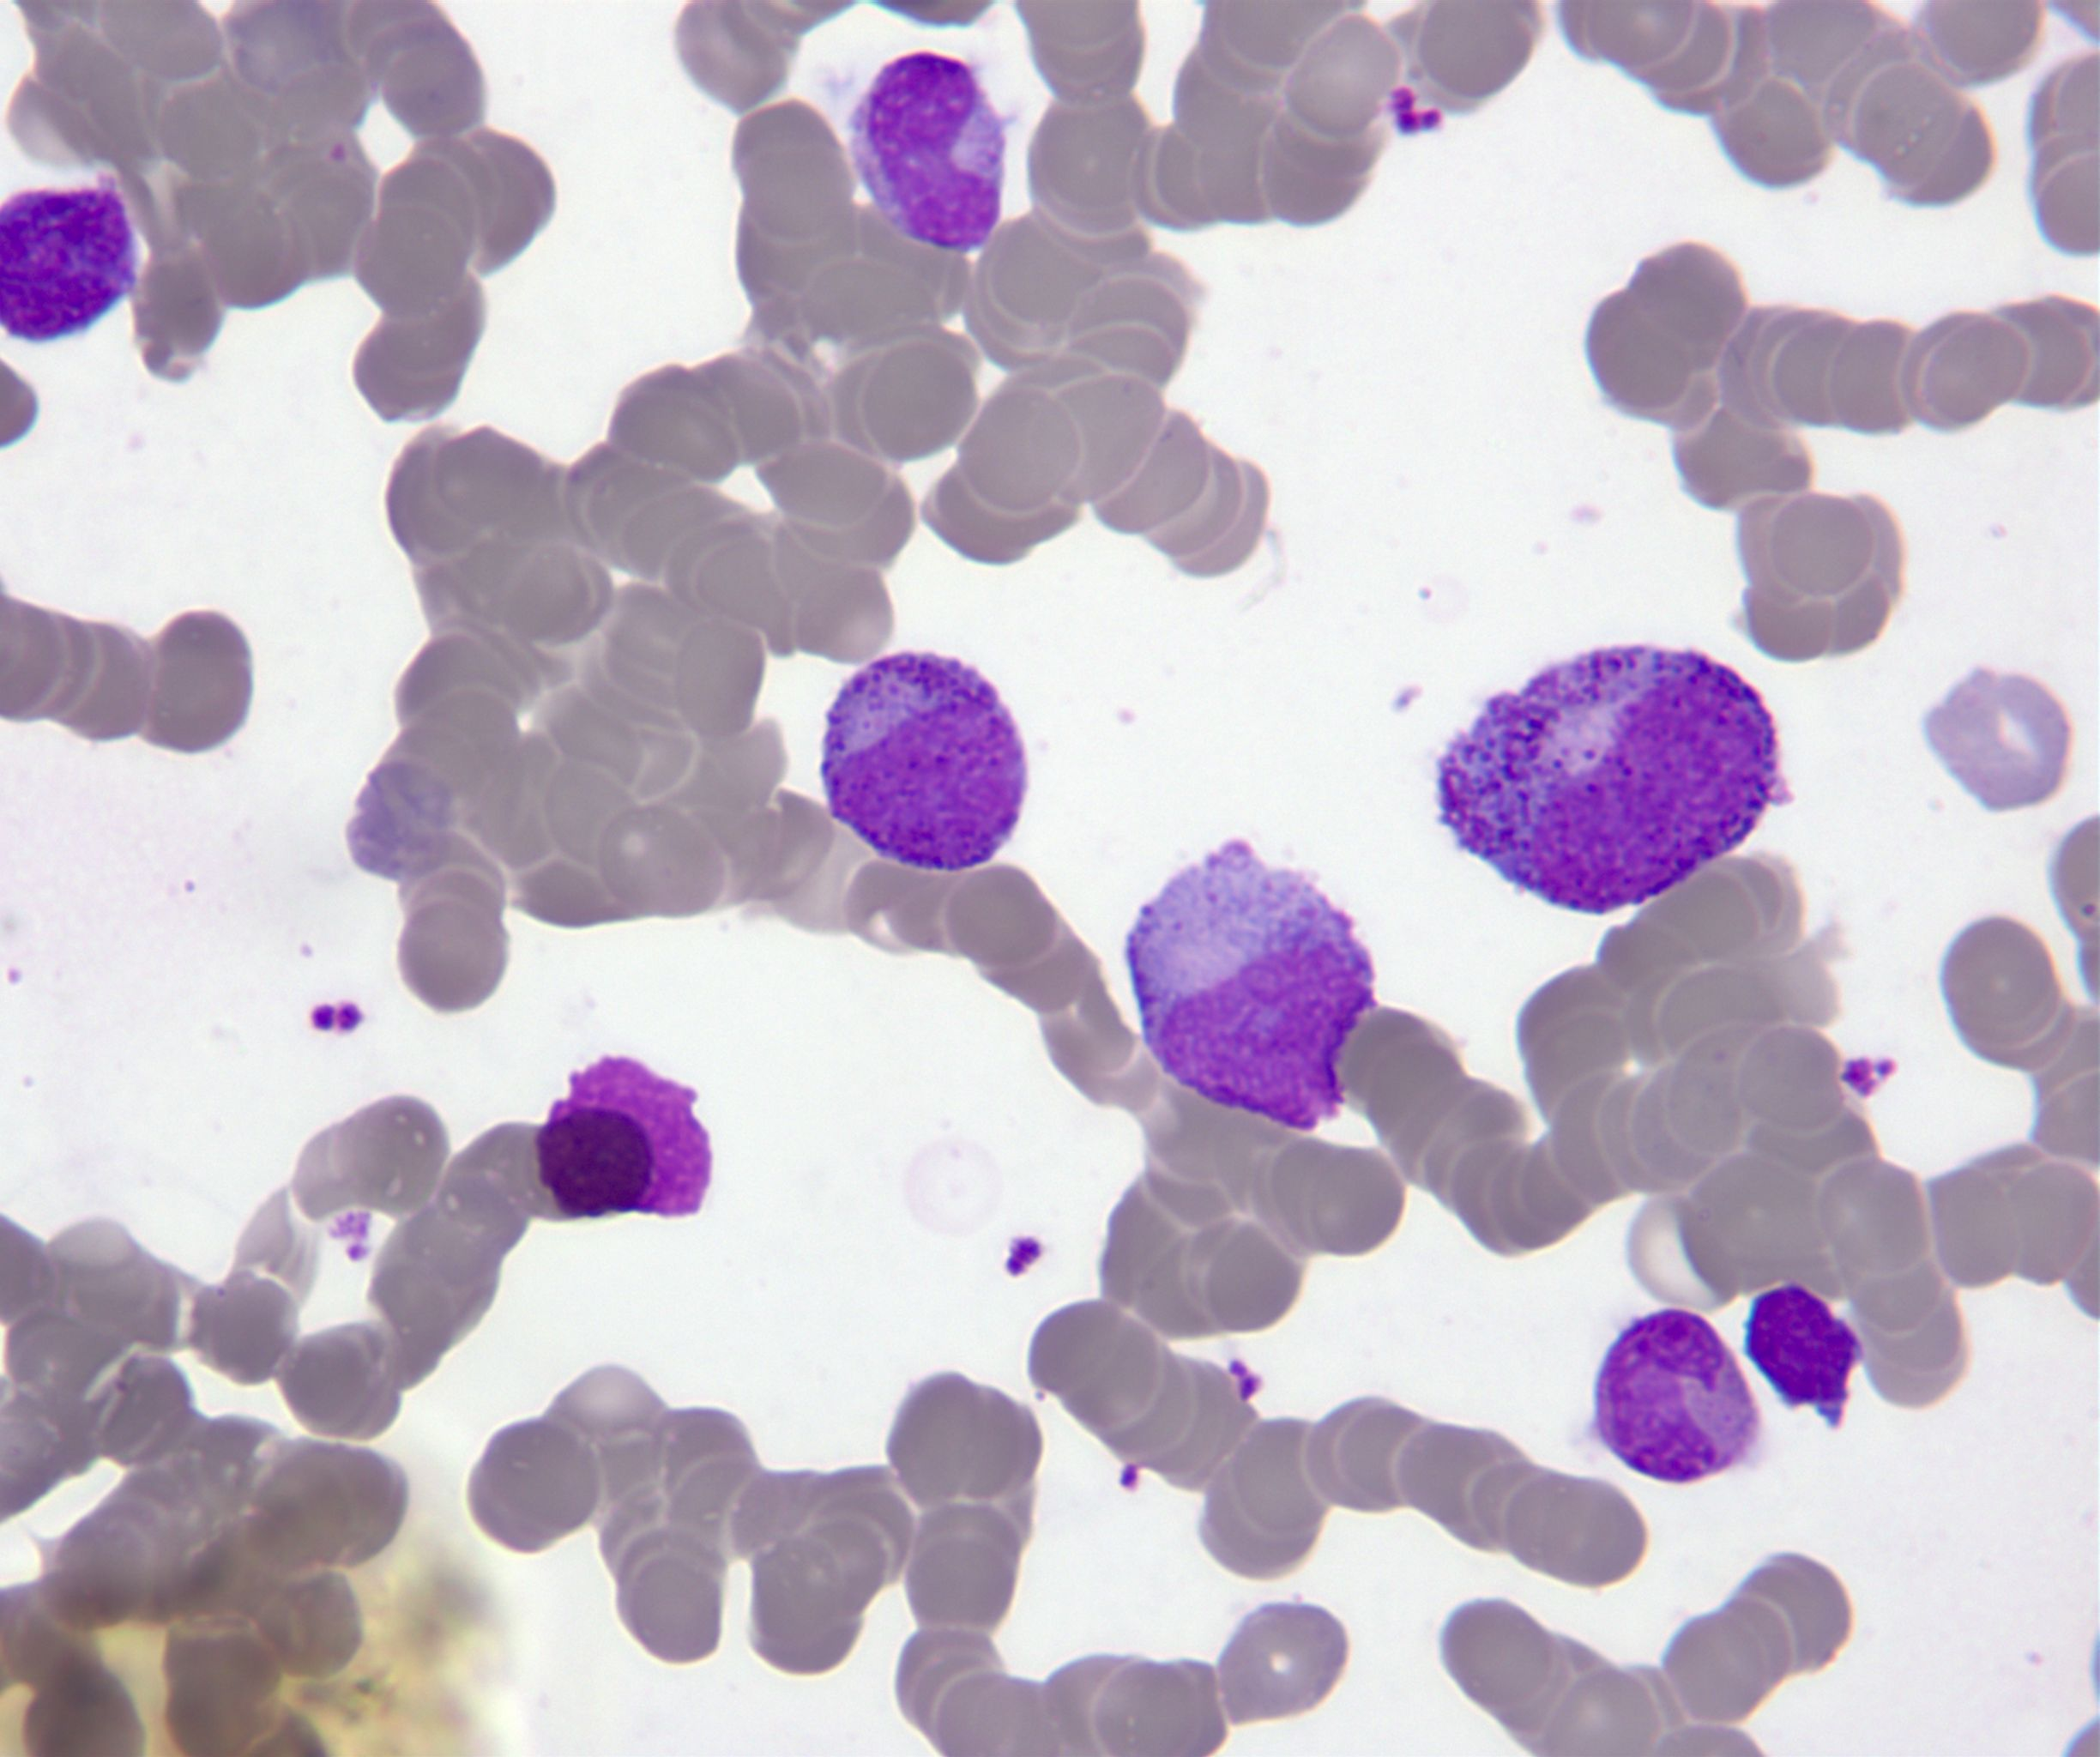3: (1430, 635, 1786, 921), (815, 646, 1033, 878)
32: (1739, 1282, 1866, 1422)
4: (1120, 834, 1381, 1139), (837, 51, 1012, 260), (1587, 1302, 1767, 1495)
x: (0, 180, 148, 349)
